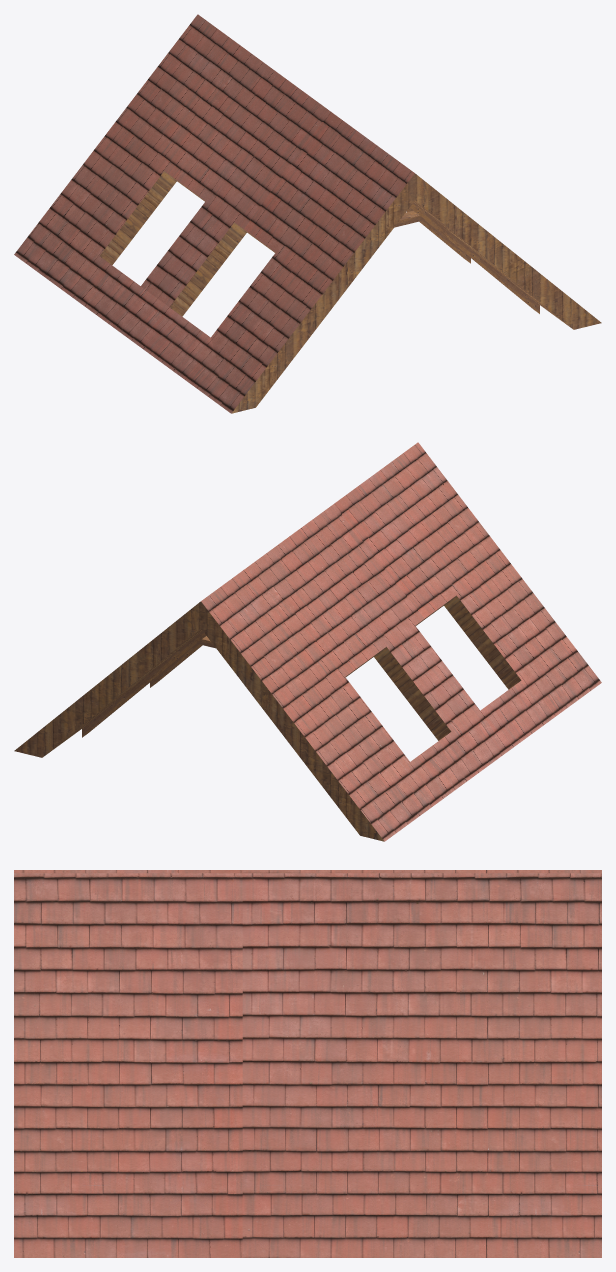
Rendered from Roof.fbx.
3 views of the same model, one above another, from view 1: azimuth 30°, elevation 25°; view 2: azimuth 150°, elevation 25°; view 3: azimuth 270°, elevation 25° (orthographic). The views are drawn at different scales.
Visible parts, largest first — view 1: roof; view 2: roof; view 3: roof.
Boxes of the visible parts, x1,y1,x2,y2 form: roof: (14,14,601,413); roof: (14,442,601,841); roof: (14,870,601,1257).
Bounding box in the file's own units: 505 × 266 × 513.
Materials: 3 (3 with a texture image).
